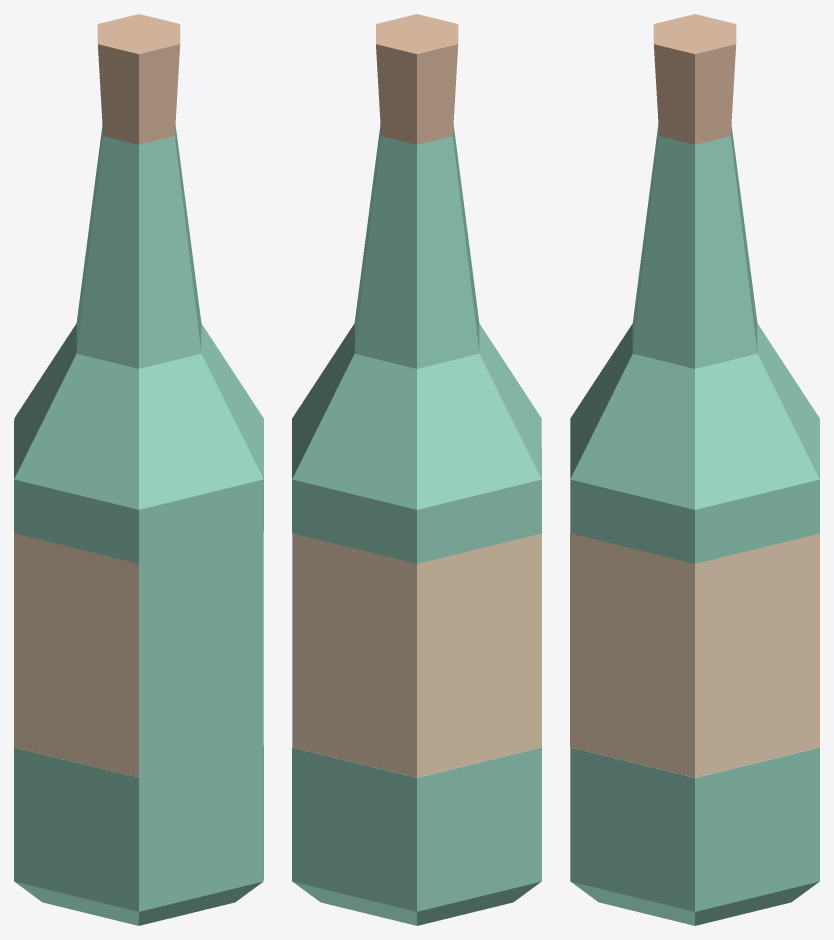
3 views of the same model, side by side, from view 1: azimuth 30°, elevation 25°; view 2: azimuth 150°, elevation 25°; view 3: azimuth 270°, elevation 25° (orthographic).
Visible parts, largest first — view 1: wineWhite; view 2: wineWhite; view 3: wineWhite.
Boxes of the visible parts, box(x1,y1,x2,y2) form: wineWhite: box(14, 14, 263, 925); wineWhite: box(292, 14, 541, 925); wineWhite: box(570, 14, 819, 925).
Size of the model in its own units: 0.2029 by 0.6556 by 0.1757.
